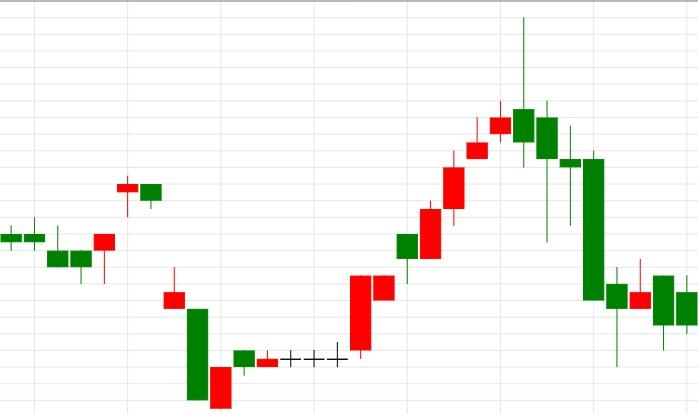shooting_star_fall: (351, 16, 534, 358)
